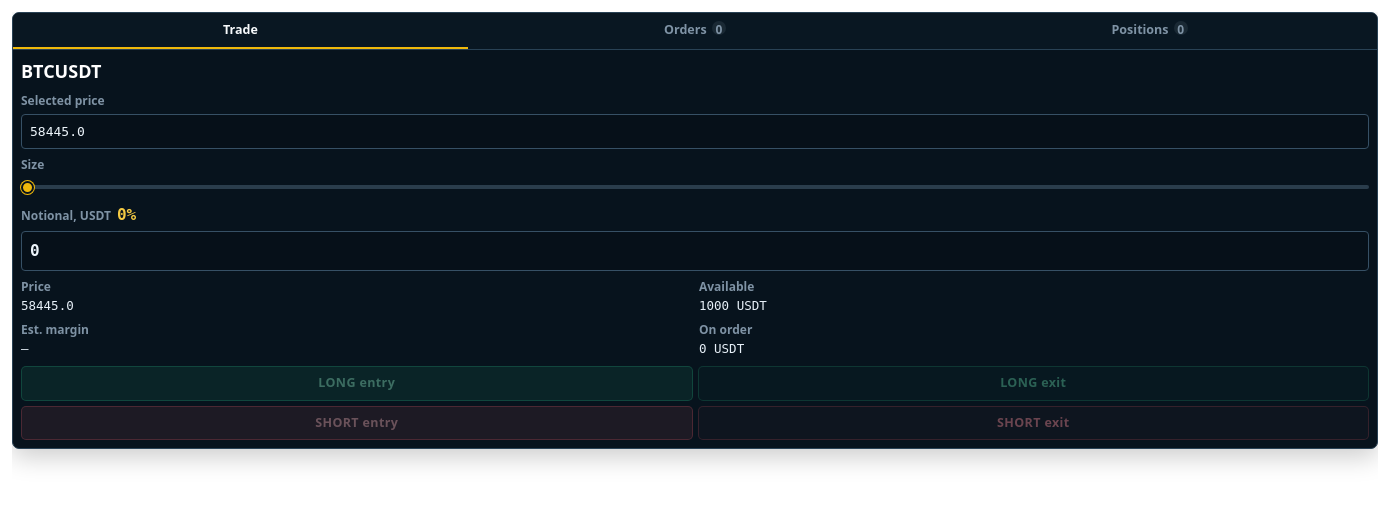
FuturesTradingTicket › keeps sizing and reduce-only exits usable while the local entry cap is exceeded
Set the slider named "Order size percent" to "25" at (362, 187), box [21,178,1369,196]
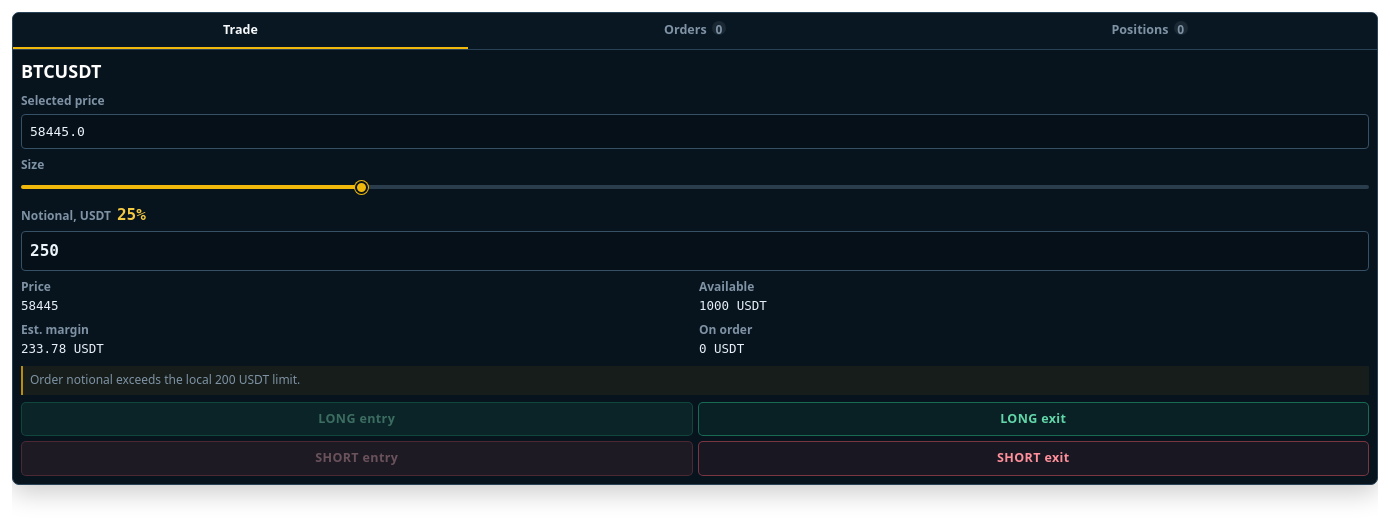
Now the text "Order notional exceeds the local 200 USDT limit." is shown, box [21,366,1369,395]
Now the button "LONG exit" is enabled, box [698,402,1369,436]
Now the button "SHORT exit" is enabled, box [698,441,1369,476]
Set the slider named "Order size percent" to "20" at (295, 187), box [21,178,1369,196]
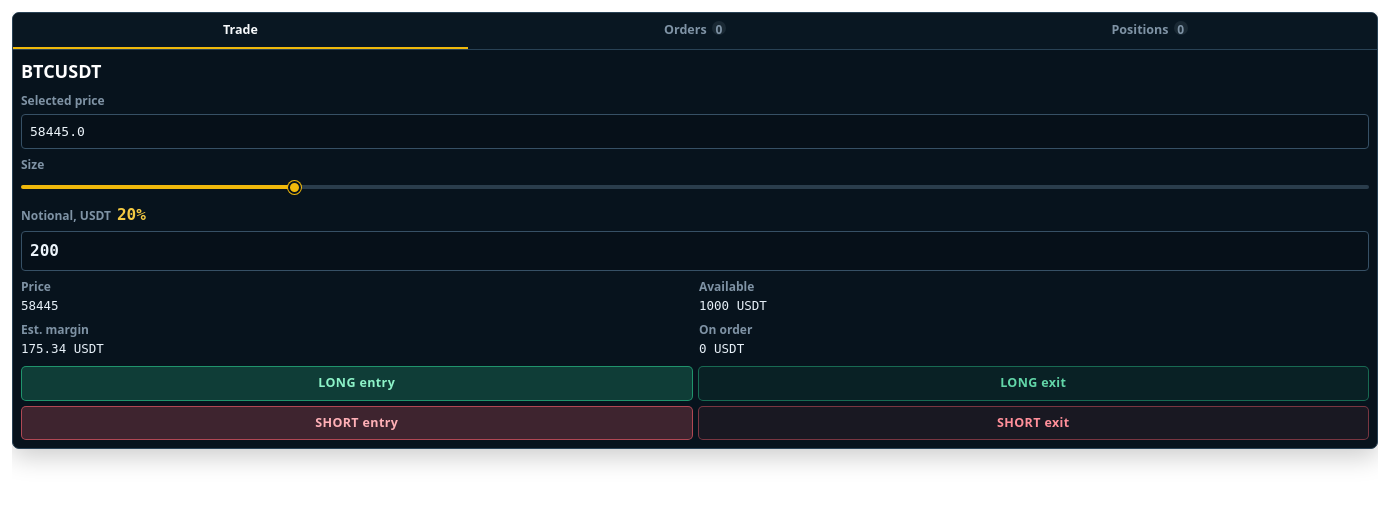
Now the text "Order notional exceeds the local 200 USDT limit." is gone
Now the button "LONG entry" is enabled, box [21,366,692,401]
Now the button "SHORT entry" is enabled, box [21,406,692,440]
